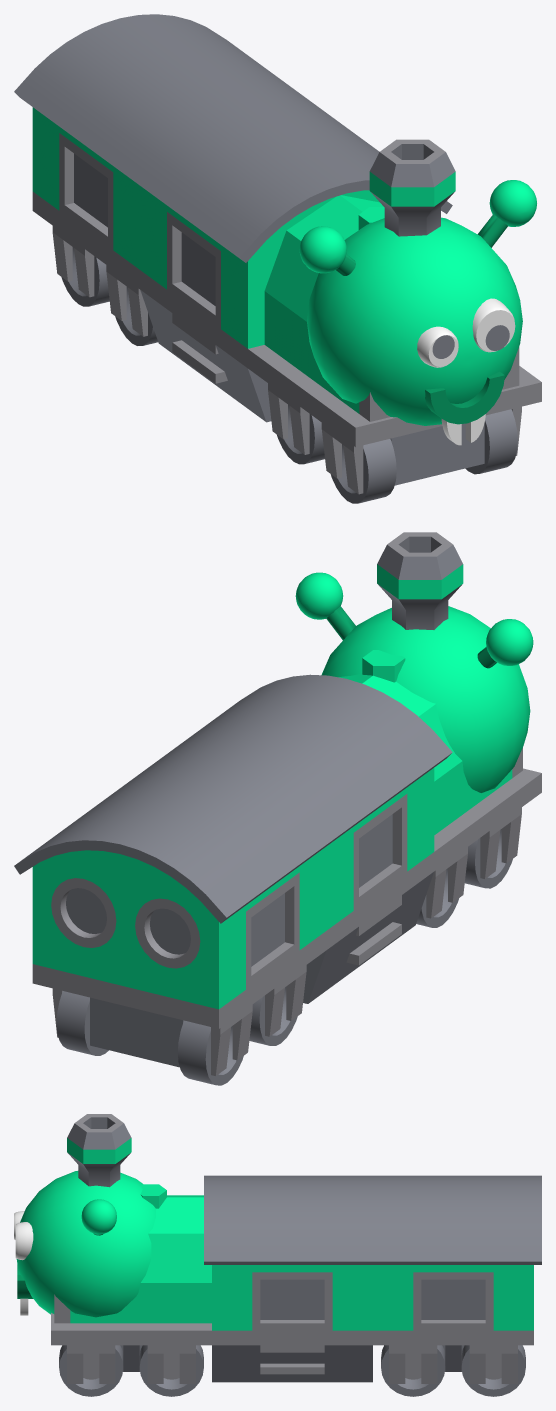
File: Train_Head.glb
The picture shows the model from 3 angles, top to bottom: view 1: azimuth 30°, elevation 25°; view 2: azimuth 150°, elevation 25°; view 3: azimuth 270°, elevation 25°; orthographic projection. The views are drawn at different scales.
Parts seen in each view (by area): view 1: alien-tête-train; view 2: alien-tête-train; view 3: alien-tête-train.
Boxes of the visible parts, x1,y1,x2,y2 form: alien-tête-train: (14,14,541,503); alien-tête-train: (14,532,541,1085); alien-tête-train: (14,1114,541,1396).
Size of the model in its own units: 1.24 by 1.68 by 3.28.
